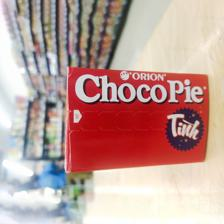Chocopie: (62, 65, 211, 175)
